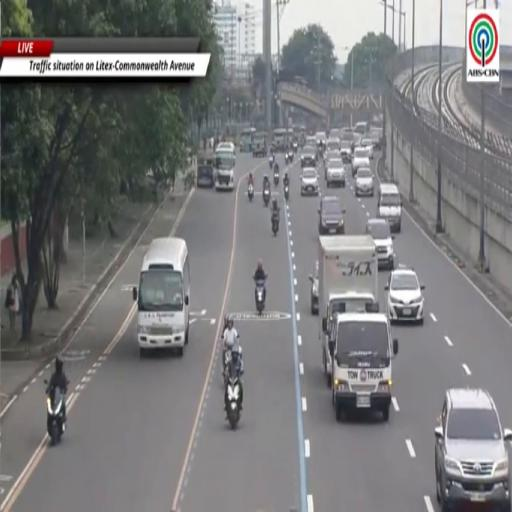bus: (240, 127, 255, 152), (273, 128, 286, 152)
car: (435, 388, 511, 511), (385, 265, 424, 324), (366, 218, 395, 269), (318, 196, 345, 235), (300, 168, 320, 196), (326, 158, 345, 187), (355, 168, 374, 197), (352, 148, 370, 177), (309, 261, 318, 314), (324, 151, 340, 179), (301, 146, 316, 168), (361, 138, 374, 159), (216, 141, 235, 154), (370, 131, 381, 150), (340, 141, 352, 157), (326, 138, 340, 151), (342, 130, 353, 145), (315, 132, 326, 146), (329, 128, 340, 139), (305, 136, 316, 147), (354, 133, 362, 147)
motorcycle: (44, 380, 65, 445), (225, 362, 242, 429), (255, 280, 265, 314), (223, 349, 231, 385), (271, 216, 278, 235), (247, 184, 254, 202), (263, 188, 270, 206), (274, 171, 279, 186), (269, 155, 274, 169), (284, 185, 288, 201), (285, 153, 290, 165), (289, 150, 293, 163), (293, 141, 297, 153)
truck: (318, 235, 378, 387), (330, 312, 398, 421), (215, 148, 235, 190)
